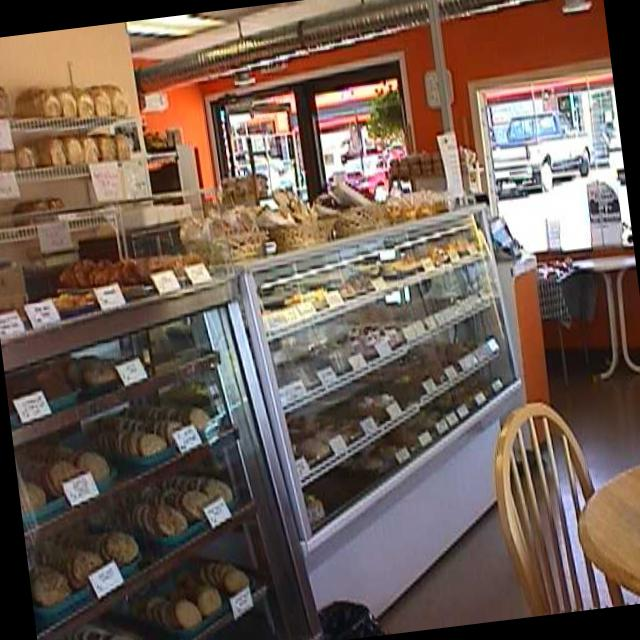2001: (477, 72, 633, 262)
cake occluded: (263, 296, 317, 332)
cakes: (334, 321, 403, 352)
ceiling beam: (127, 0, 530, 94)
chair cushion: (495, 399, 625, 614)
cookies: (134, 556, 250, 623), (93, 400, 210, 453), (132, 471, 232, 522), (95, 499, 187, 534)
double door: (211, 59, 418, 259)
floor -X: (16, 344, 640, 640)
lamp crop: (131, 15, 227, 37)
loaf occluded: (0, 85, 13, 113)
loafs: (16, 81, 130, 115), (31, 126, 131, 163)
shelf crop: (0, 158, 133, 191), (0, 113, 138, 136)
showcase occluded: (186, 198, 540, 640), (0, 259, 329, 640)
table -X: (567, 252, 640, 378)
table lamp: (581, 463, 640, 591)
wall clock: (204, 0, 640, 375), (0, 21, 190, 460), (137, 80, 228, 255)
